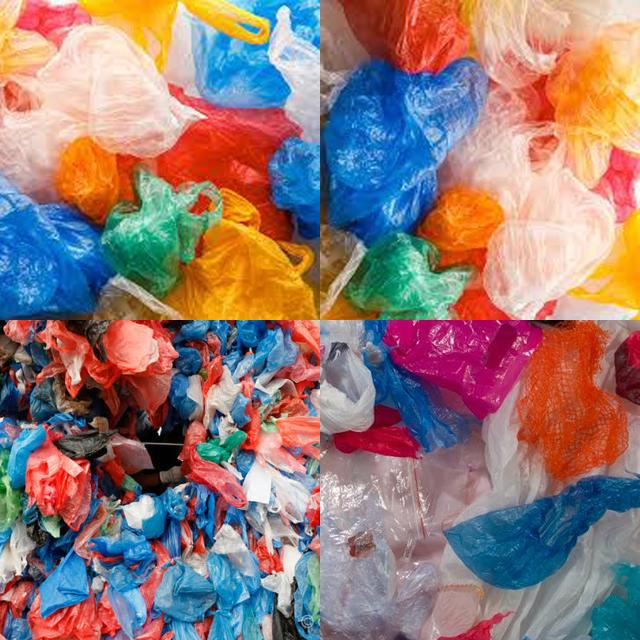Single-layer Plastic: (441, 86, 615, 319), (320, 431, 490, 639), (0, 25, 200, 201), (322, 58, 488, 244), (420, 508, 640, 640), (156, 85, 300, 240), (445, 475, 640, 589), (166, 190, 316, 319), (516, 321, 629, 482), (0, 175, 114, 318), (545, 21, 640, 186), (384, 320, 542, 419), (101, 170, 221, 298), (471, 0, 640, 89), (361, 320, 471, 452), (456, 385, 560, 522), (79, 0, 269, 72), (35, 320, 178, 415), (460, 375, 549, 519), (344, 232, 471, 319), (340, 0, 470, 72), (192, 19, 290, 108), (310, 320, 376, 434), (570, 210, 640, 310), (269, 5, 320, 142), (25, 430, 90, 530), (179, 420, 246, 508), (58, 136, 120, 224), (419, 189, 505, 251), (269, 138, 320, 238), (230, 0, 319, 45), (590, 399, 640, 478), (154, 560, 216, 622), (206, 552, 250, 639), (255, 415, 320, 472), (39, 549, 89, 619), (234, 328, 299, 381), (108, 565, 148, 639)
